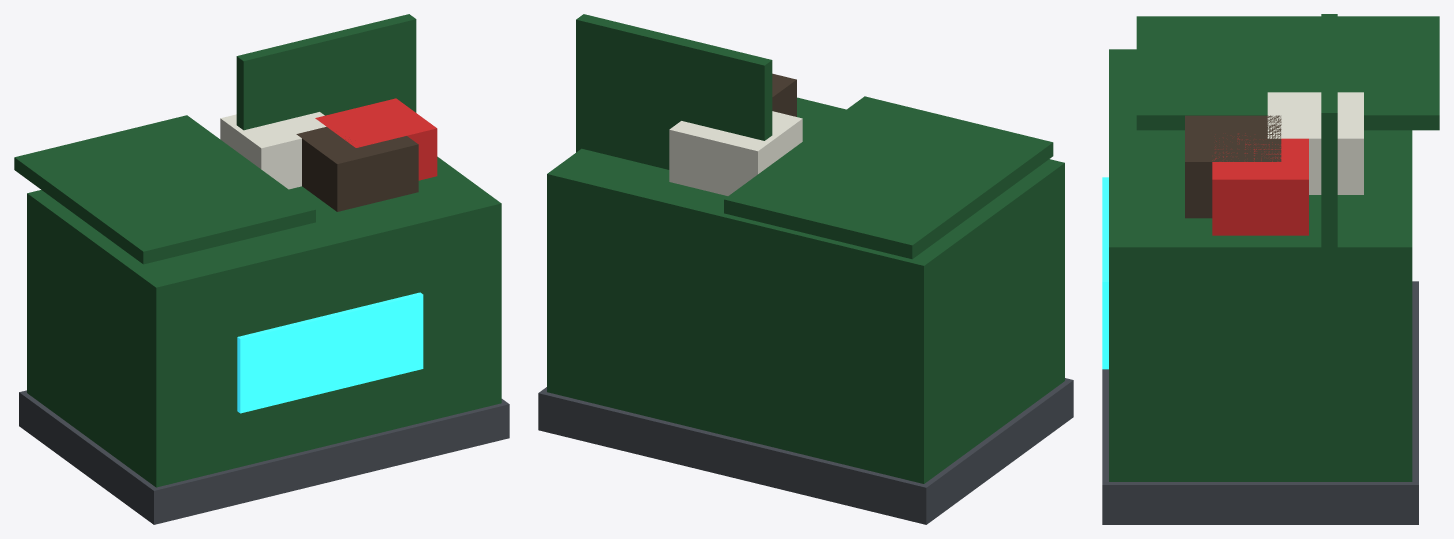
File: dumpster.glb
3 views of the same model, side by side, from view 1: azimuth 30°, elevation 25°; view 2: azimuth 150°, elevation 25°; view 3: azimuth 270°, elevation 25° (orthographic). The views are drawn at different scales.
Visible parts, largest first — view 1: dumpster; view 2: dumpster; view 3: dumpster.
Boxes of the visible parts, x1=… form: dumpster: x1=14, y1=14, x2=509, y2=524; dumpster: x1=538, y1=14, x2=1073, y2=524; dumpster: x1=1102, y1=14, x2=1439, y2=524.
Size of the model in its own units: 1.75 by 1.65 by 1.22.
